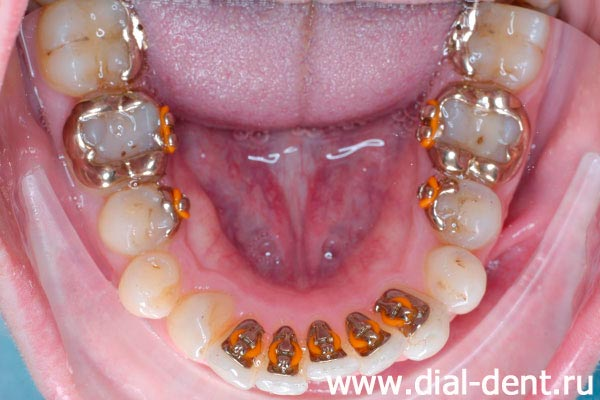LL1BC_decay: (425, 245, 488, 311)
LL1M_decay: (420, 84, 529, 180)
LL2BC_decay: (420, 176, 501, 245)
LL2M_decay: (450, 4, 548, 82)
LLCI_decay: (304, 318, 357, 382)
LLC_decay: (377, 285, 448, 360)
LLLI_decay: (346, 310, 401, 374)
LR1BC_healthy: (119, 255, 177, 318)
LR1M_decay: (71, 95, 179, 185)
LR2BC_decay: (100, 186, 192, 255)
LR2M_decay: (38, 2, 148, 90)
LRCI_decay: (261, 328, 305, 396)
LRC_healthy: (175, 293, 223, 350)
LRLI_decay: (221, 318, 261, 390)
